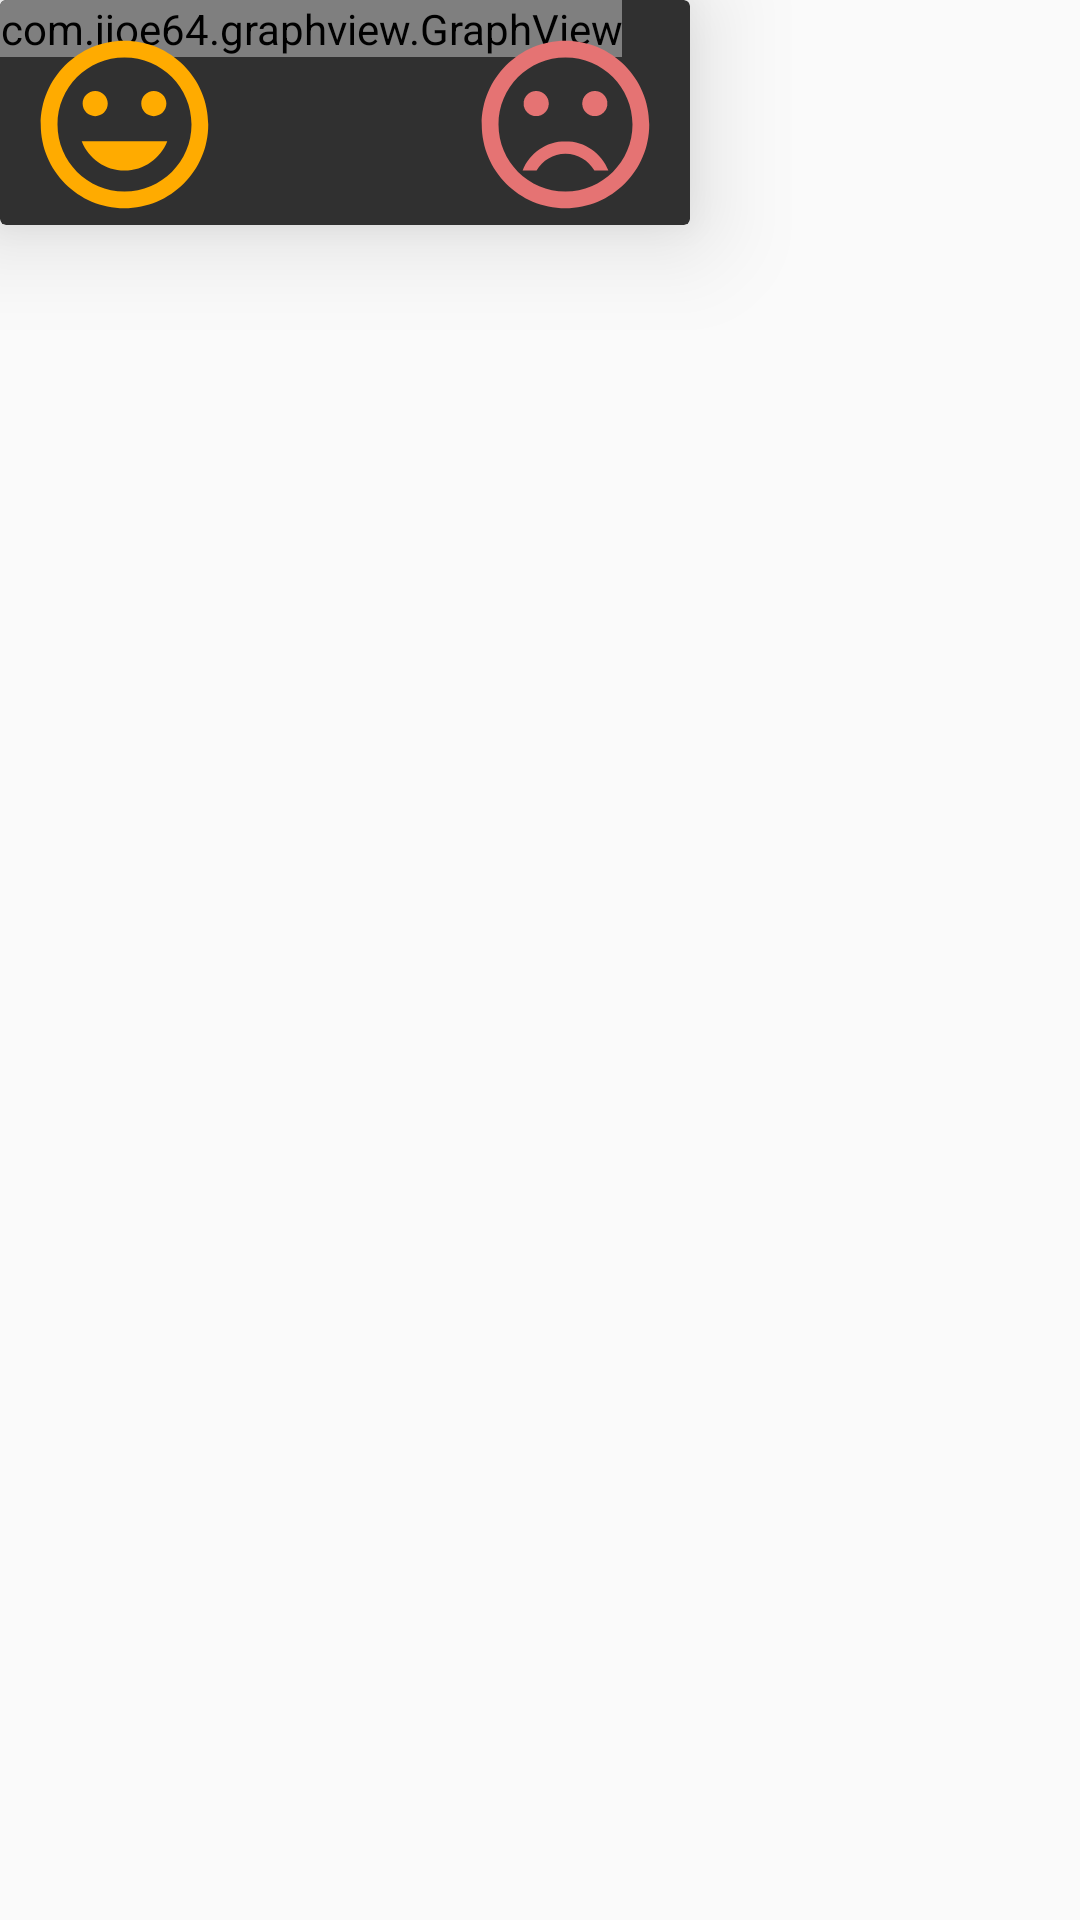

Icons on this 1080px×1920px Android screen, each with the point to tap as point (x, y):
mood: point (124, 124)
sentiment dissatisfied: point (565, 124)
